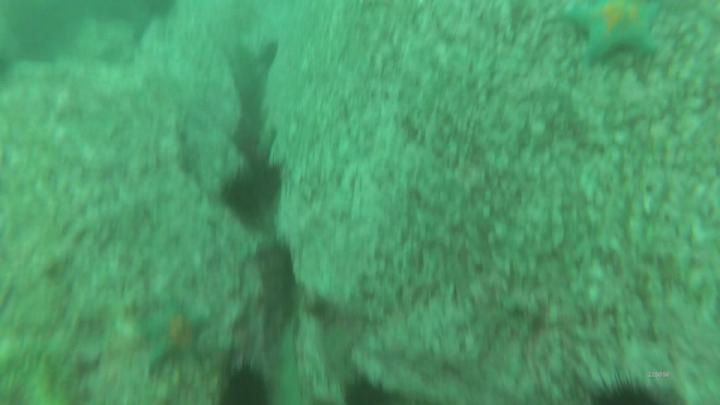echinus: (211, 359, 277, 405), (585, 369, 669, 405), (219, 174, 266, 226), (338, 371, 393, 405), (257, 160, 287, 190), (146, 1, 179, 21)
starfish: (561, 1, 668, 69), (138, 298, 213, 376)
